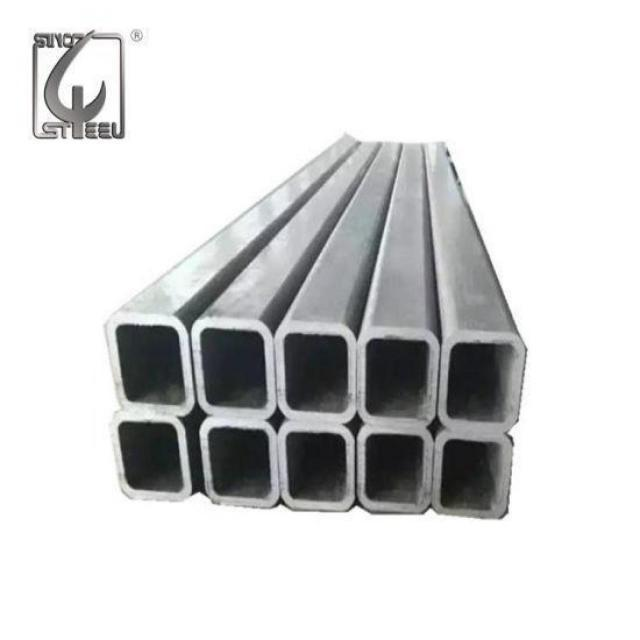pipe: (103, 310, 200, 418), (189, 314, 280, 422), (437, 328, 530, 433), (273, 318, 363, 426), (354, 325, 444, 427), (430, 427, 515, 522), (108, 411, 192, 506), (356, 423, 439, 518), (277, 421, 357, 516), (199, 418, 282, 508)
